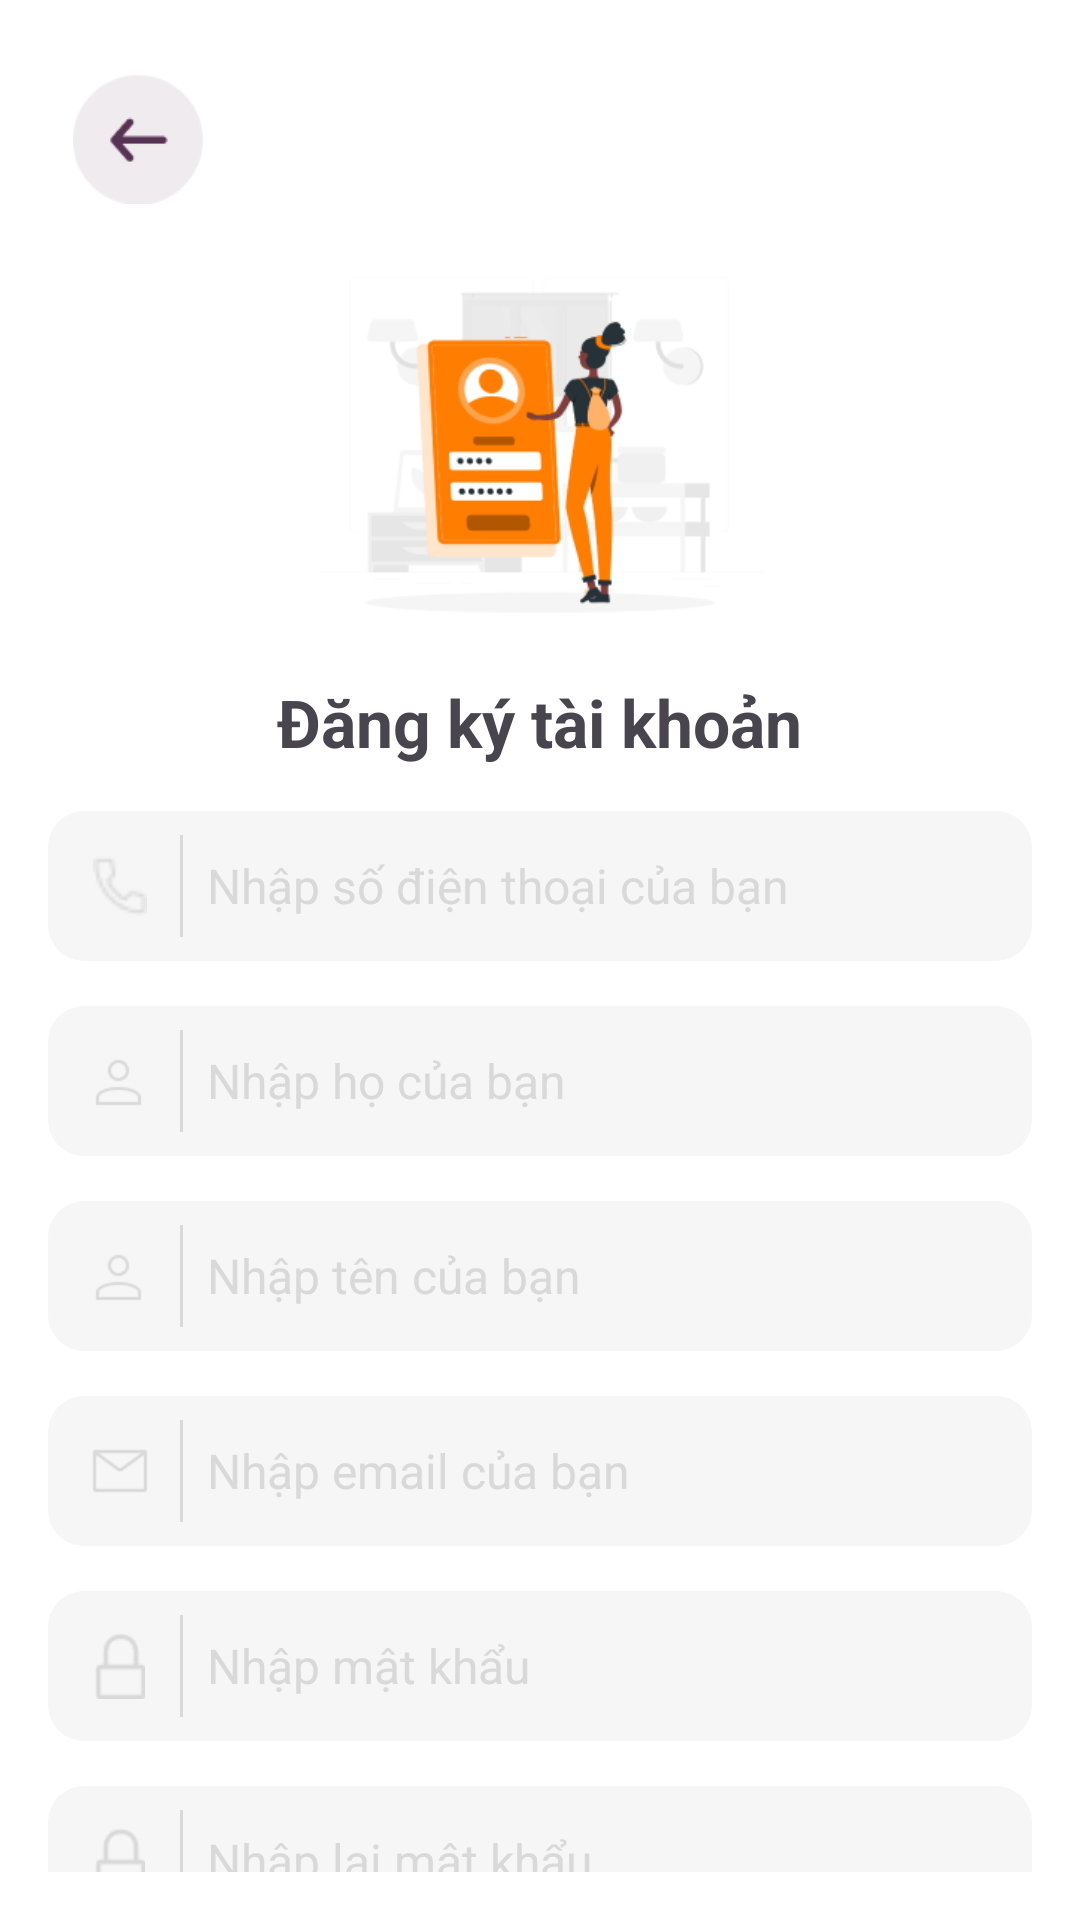

Icons on this 1080px×1920px Android screen, each with the point to tap as [x,y]:
Person Icon: [118,1082], [118,1277]
